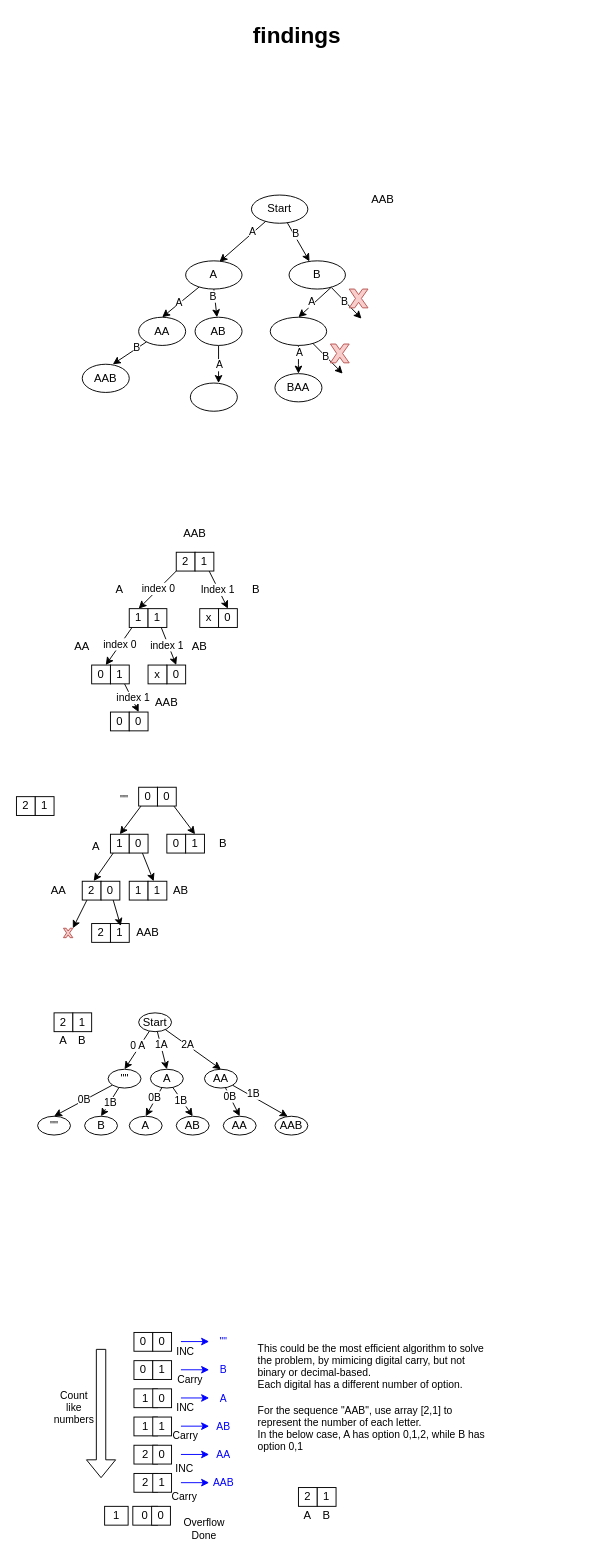
Image size: 597x1559. Some labels were removed from this diagram. Each missing label, with the centre of its shape:
ABA: the point at 213,396
BA: the point at 298,330
